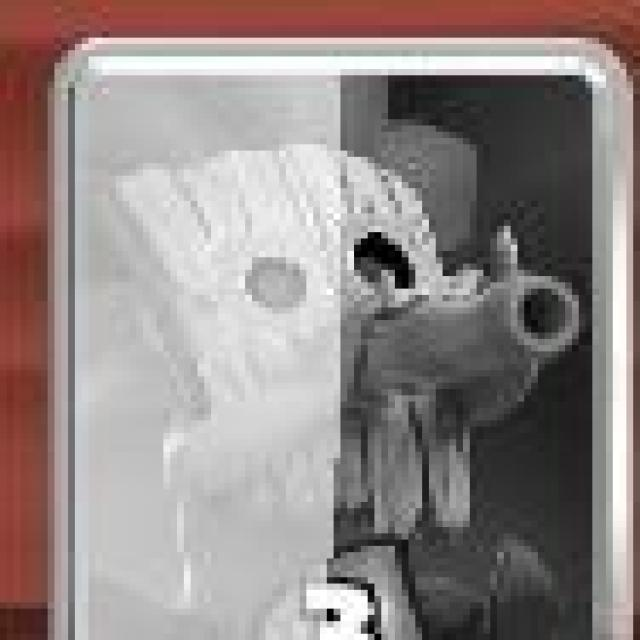Dart_Goblin: (50, 27, 635, 640)
